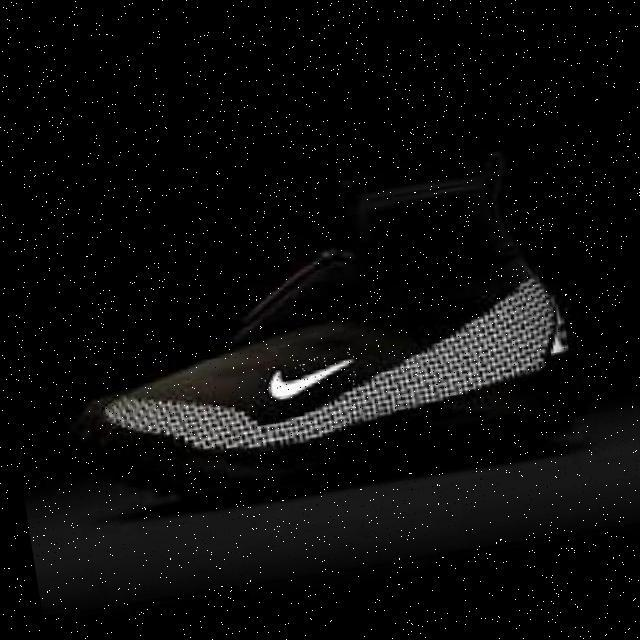Nike: (259, 347, 361, 402)
